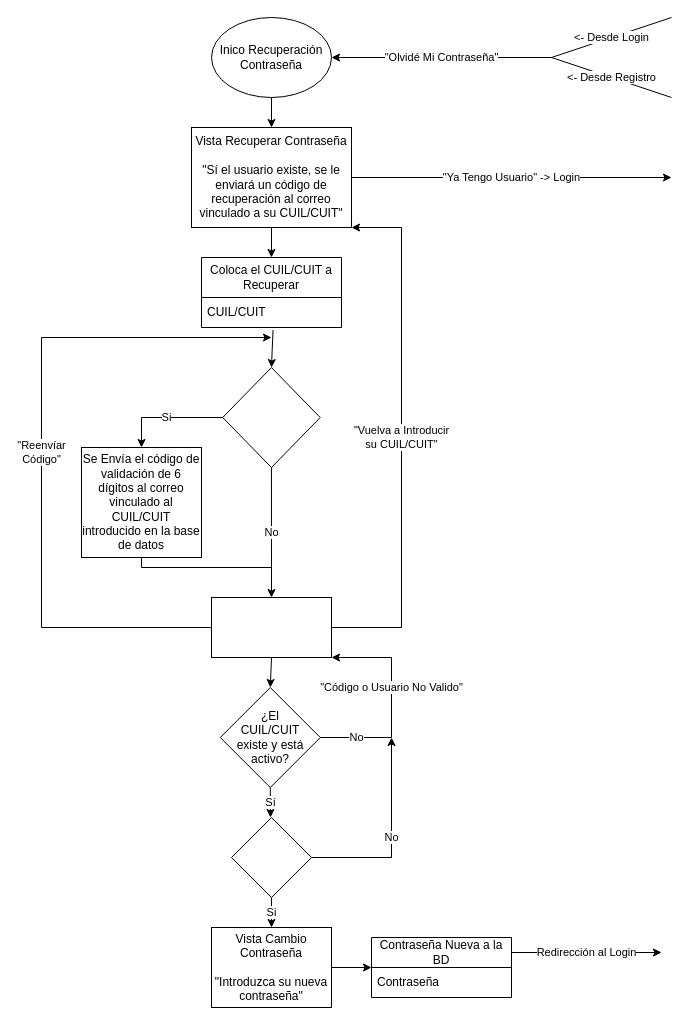
This 697x1025 diagram has some shape labels left out. Here are the shapes that lost their labels. From the top down, the centre of each, then its label:
the point at 271,417: ¿Existe y está activo el Usuario?
the point at 271,627: Vista Dígitos "Introduzca El Código enviado a su Correo"
the point at 271,857: ¿Código correcto?
